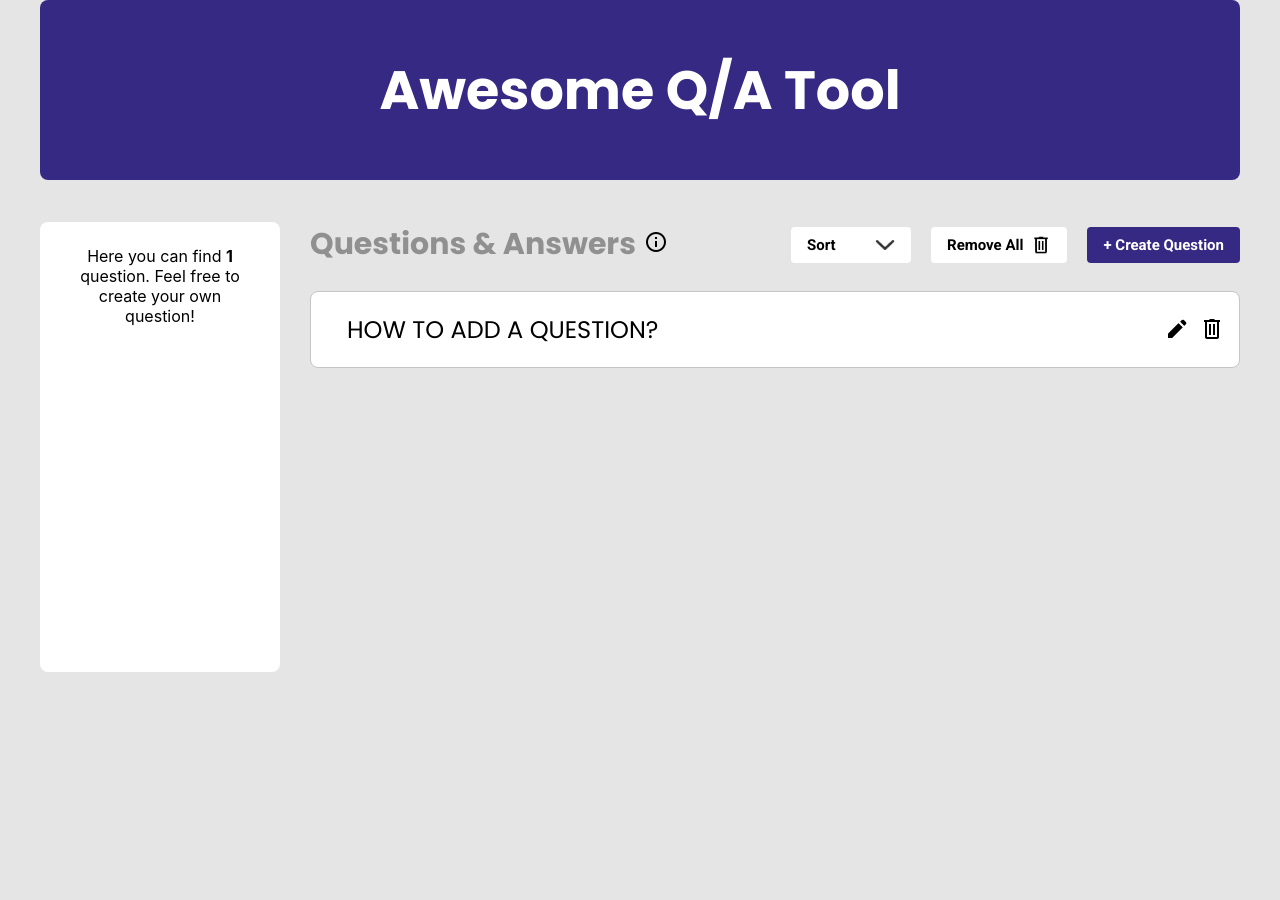
Question Answers › create question button works as expected
The width and height of the screenshot is (1280, 900).
Check: the text "Create Question & Answer" is not shown
Click the button with test id "create-button".
click(1164, 244)  # box [1087, 226, 1240, 262]
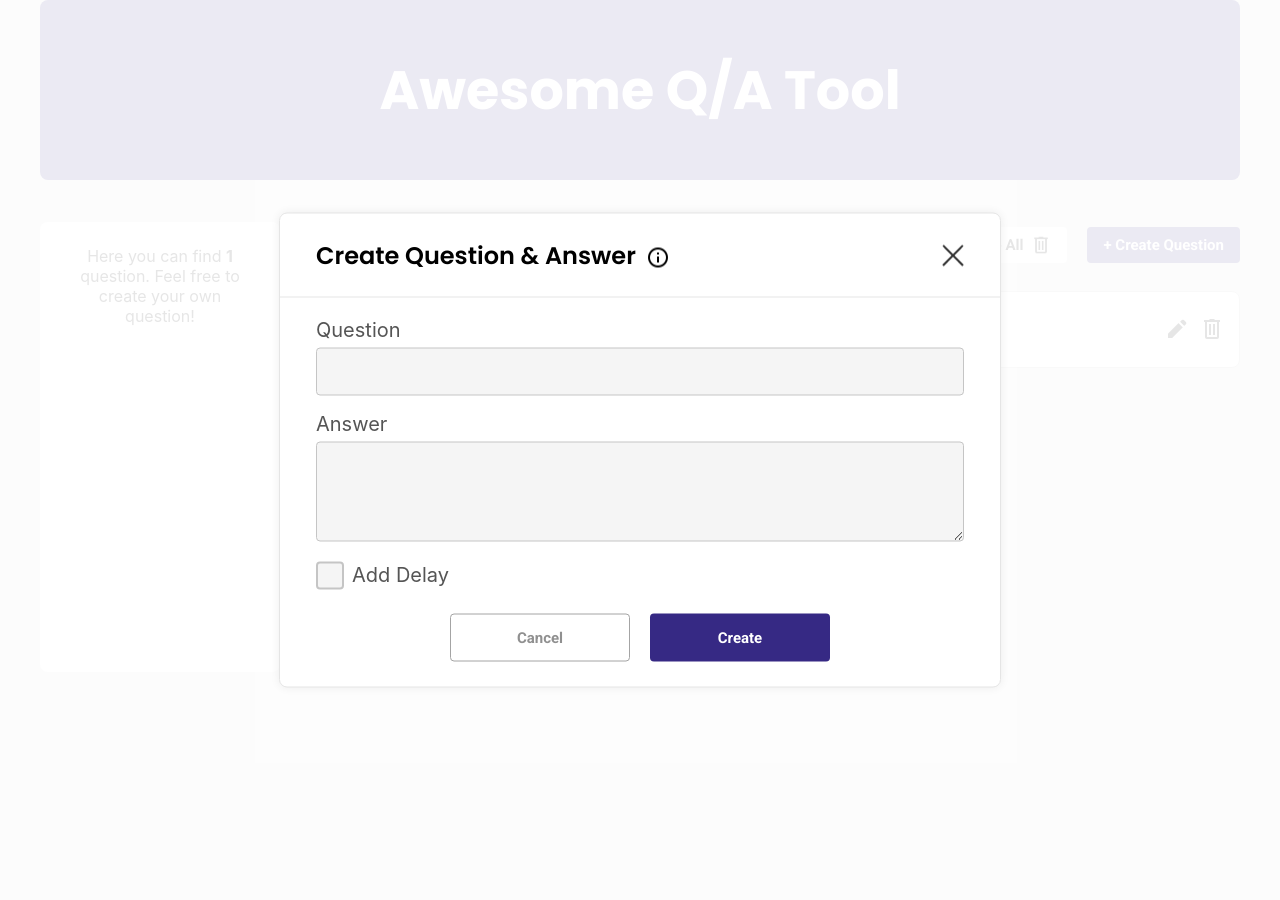
Check: the heading "Create Question & Answer" is shown, box [316, 238, 670, 272]
Type "How are you?" into the field with test id "form-input".
click(640, 372); type("How are you?")  # box [316, 348, 964, 396]
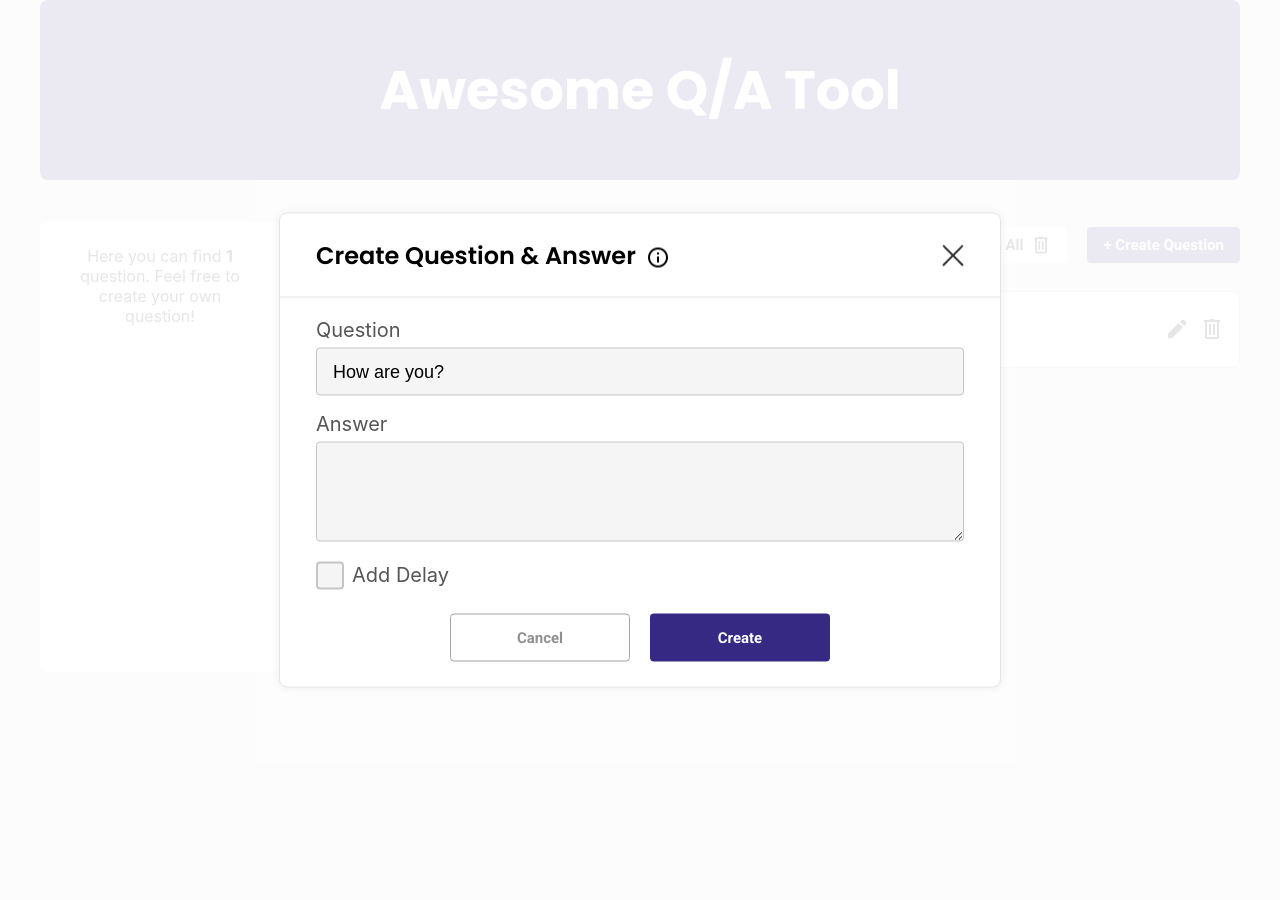
Type "I am Fine" into the text box with test id "text-area".
click(640, 492); type("I am Fine")  # box [316, 442, 964, 542]
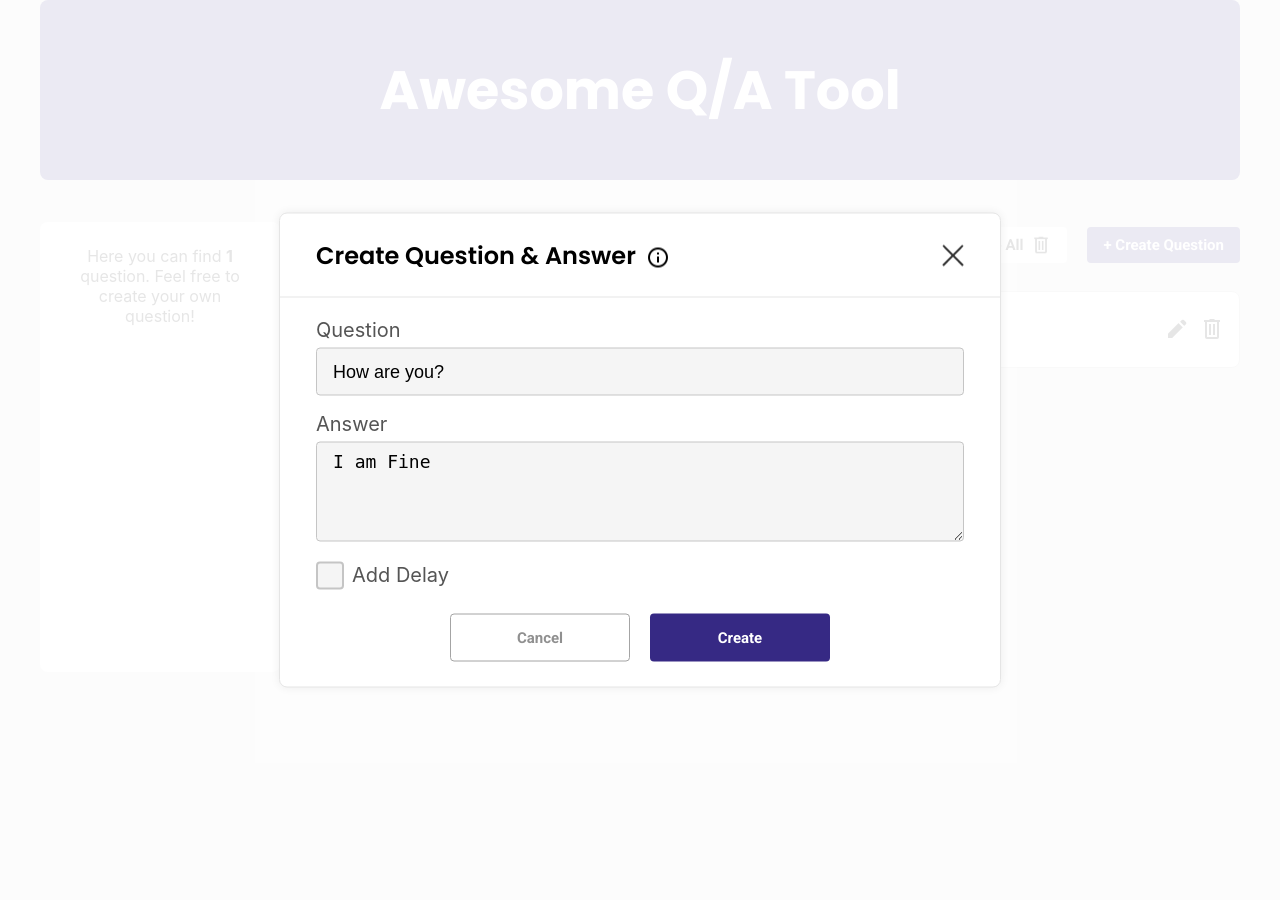
Click the button "Create".
click(740, 638)  # box [650, 614, 830, 662]
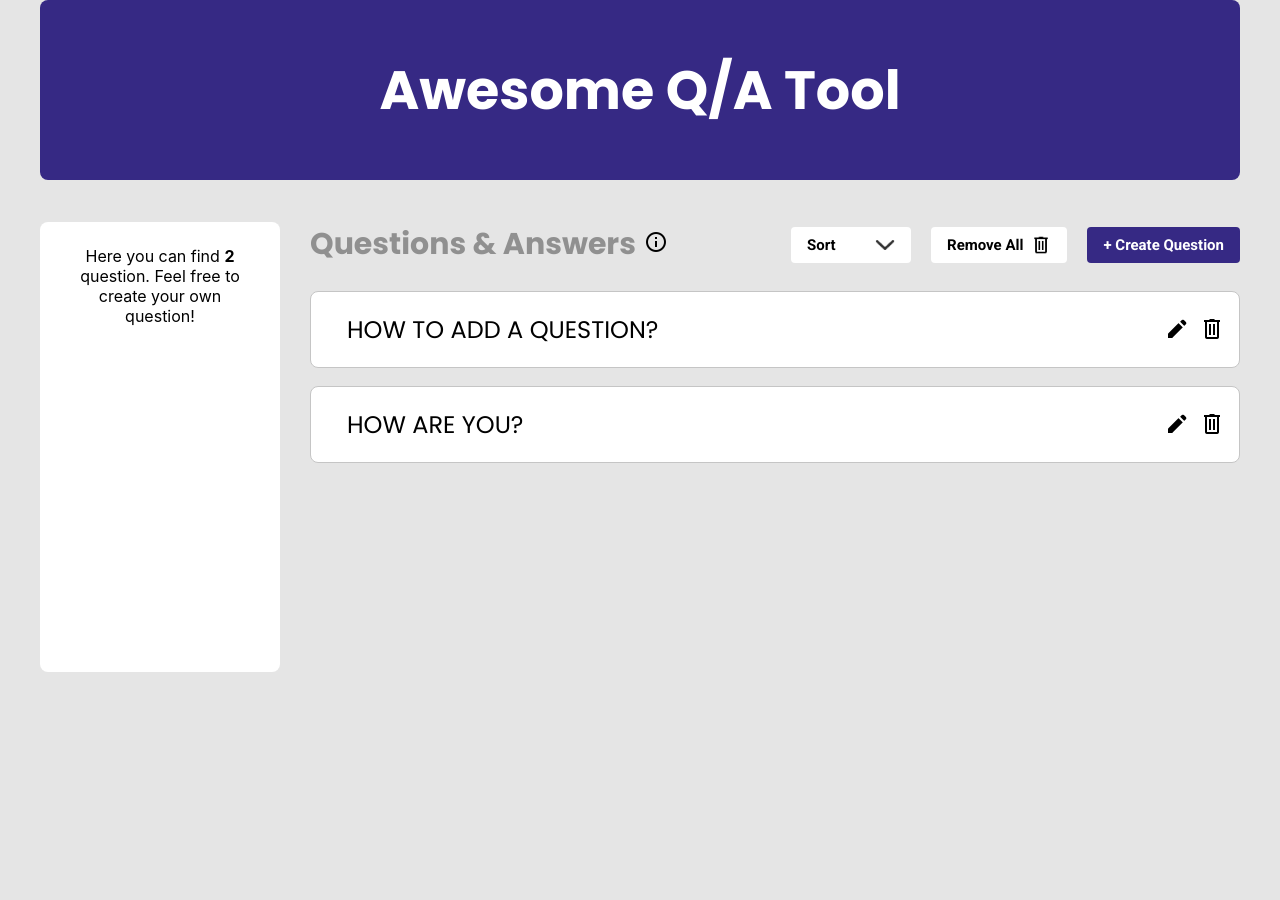
Check: the text "I am Fine" is not shown
Check: the heading "Create Question & Answer" is gone
Check: the heading "How are you?" is shown
Click the heading "How are you?".
click(435, 424)  # box [347, 407, 1203, 442]
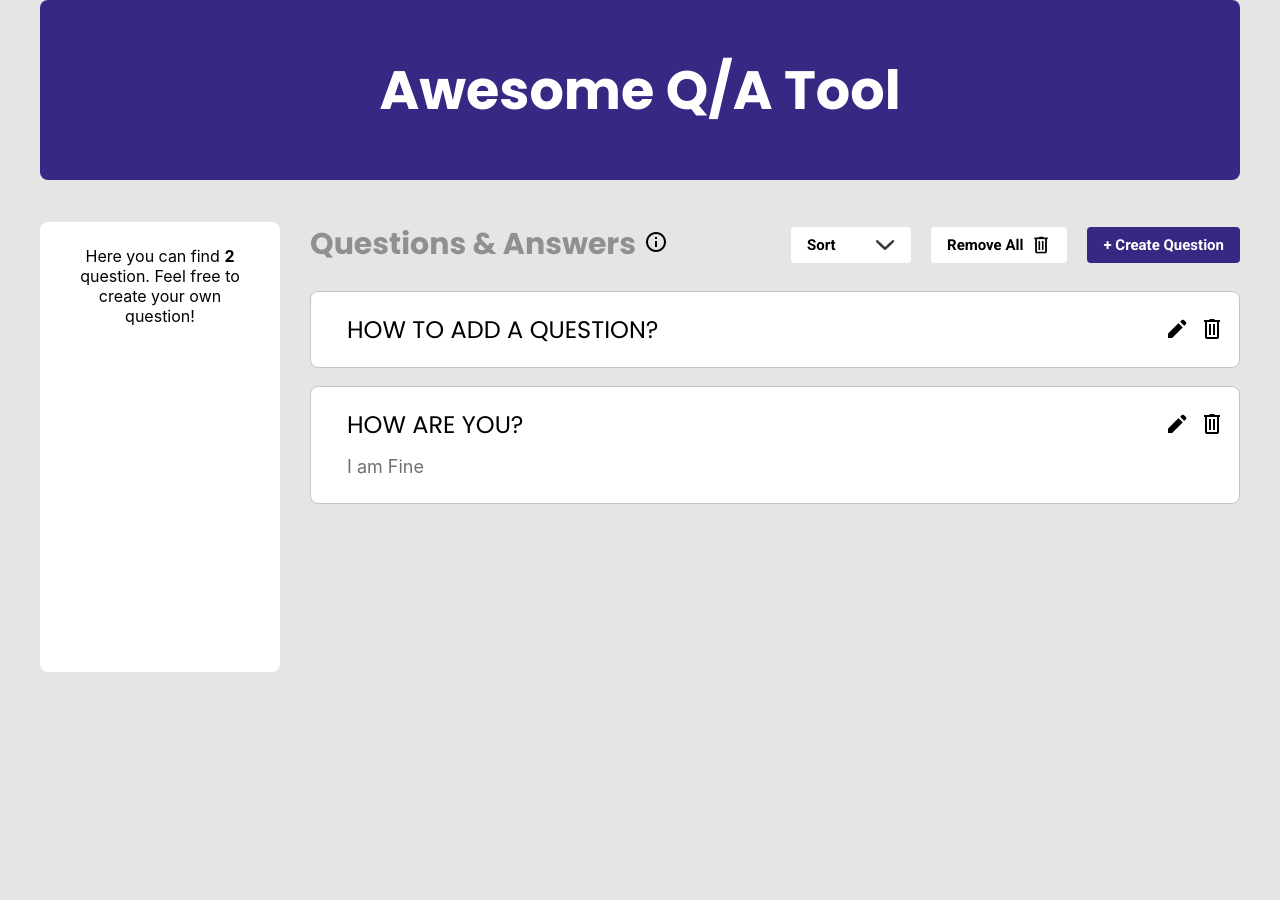
Check: the text "I am Fine" is shown, box [347, 456, 424, 477]
